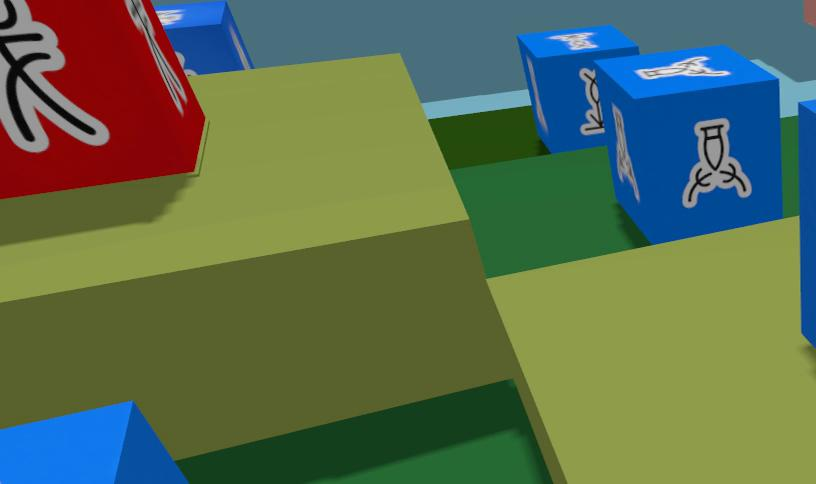KFS_FAKE: (0, 0, 205, 199), (0, 0, 109, 153)
KFS_REAL: (596, 46, 782, 243), (517, 25, 639, 151), (0, 402, 188, 483), (683, 119, 751, 207), (799, 102, 815, 348), (612, 105, 638, 201), (636, 55, 729, 79), (579, 68, 603, 134), (549, 32, 597, 49)
